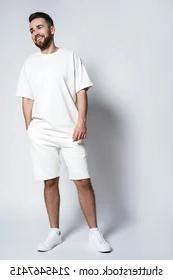Shorts: (28, 131, 92, 183)
short sleeve shirt: (16, 46, 94, 136)
